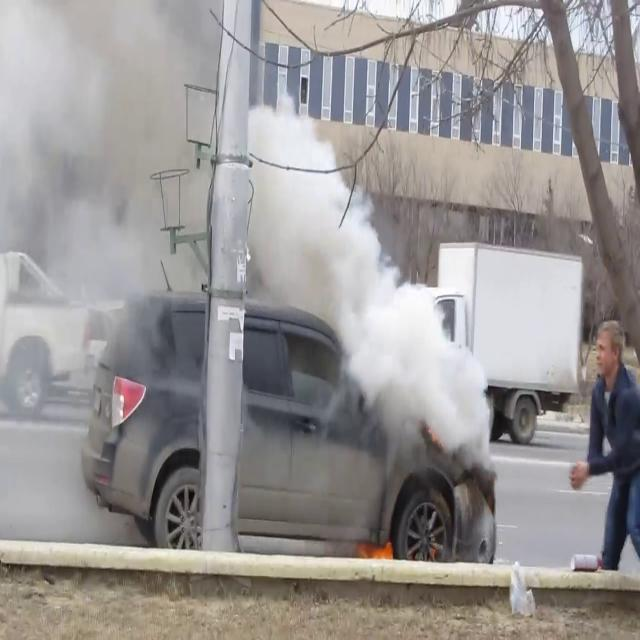Smoke: (0, 0, 479, 443)
